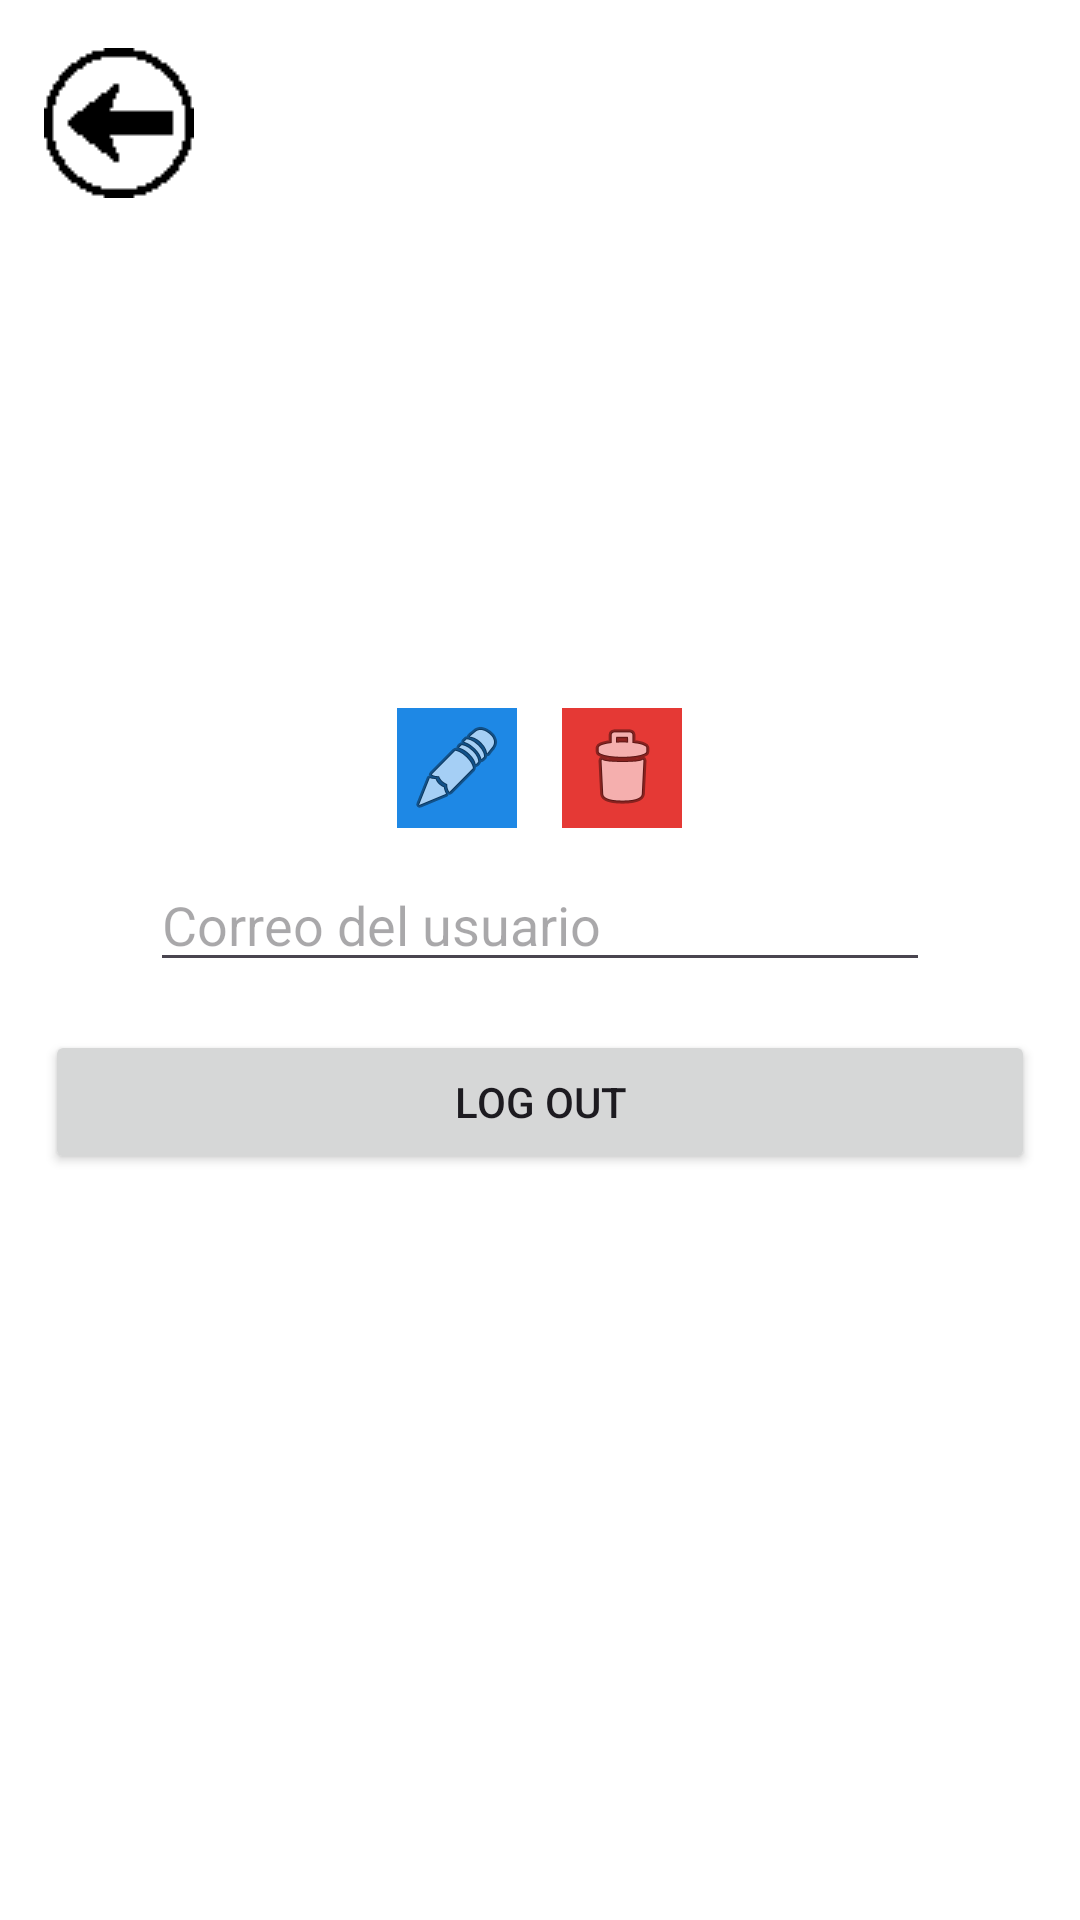

Named icons in this screenshot (1080×1920) and their centers, (x,y):
atras: (119,123)
delete: (622,768)
edit: (457,768)
